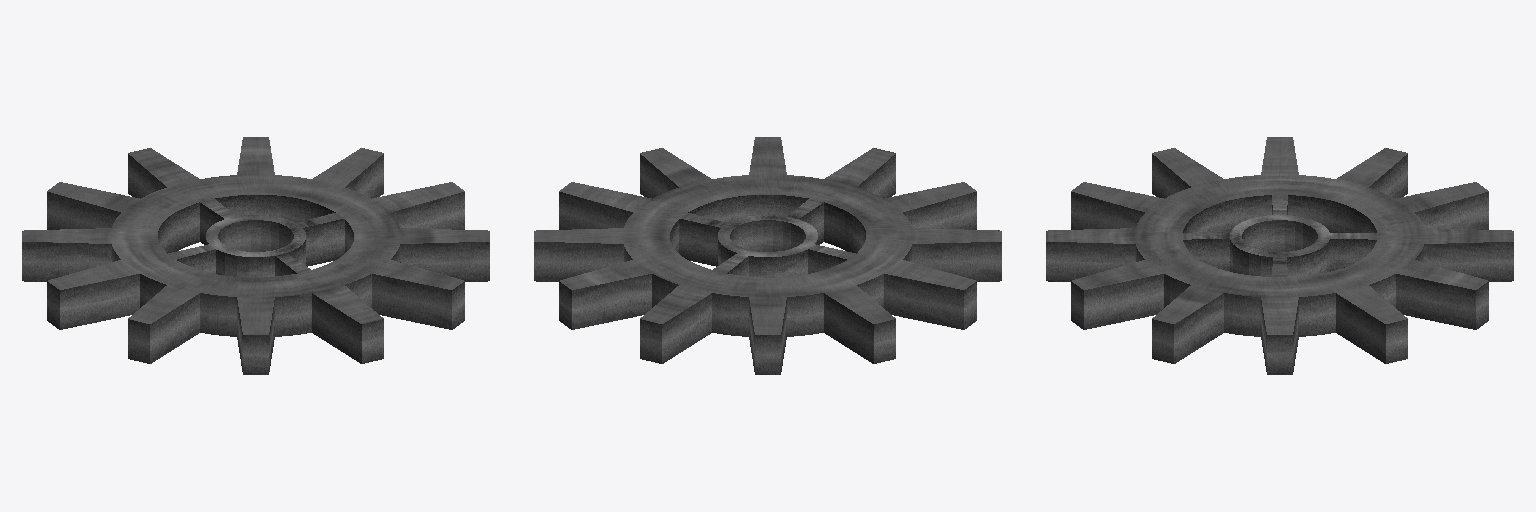
3 renders of one model, left to right at view 1: azimuth 30°, elevation 25°; view 2: azimuth 150°, elevation 25°; view 3: azimuth 270°, elevation 25°, orthographic.
Parts seen in each view (by area): view 1: cog; view 2: cog; view 3: cog.
Boxes of the visible parts, <box> form: cog: <box>22,137,489,374</box>; cog: <box>534,137,1001,374</box>; cog: <box>1046,137,1513,374</box>.
Bounding box in the file's own units: 2 × 0.1875 × 2.
Materials: 1 (1 with a texture image).